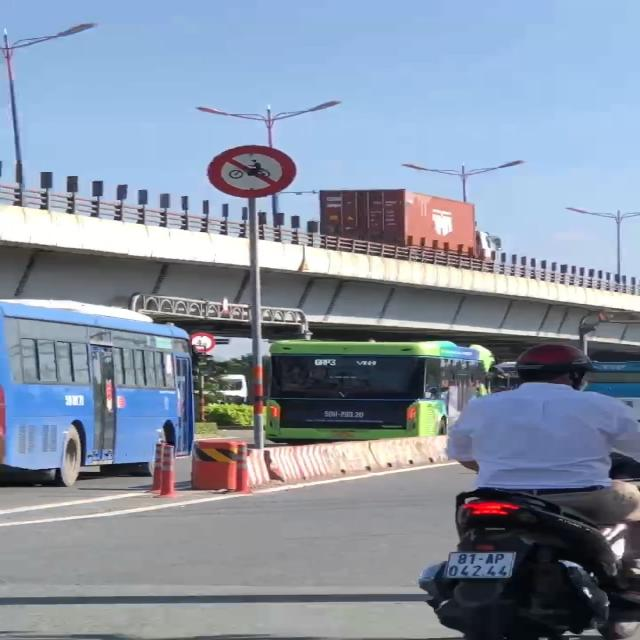Bien bao cam xe may: (200, 142, 307, 207)
